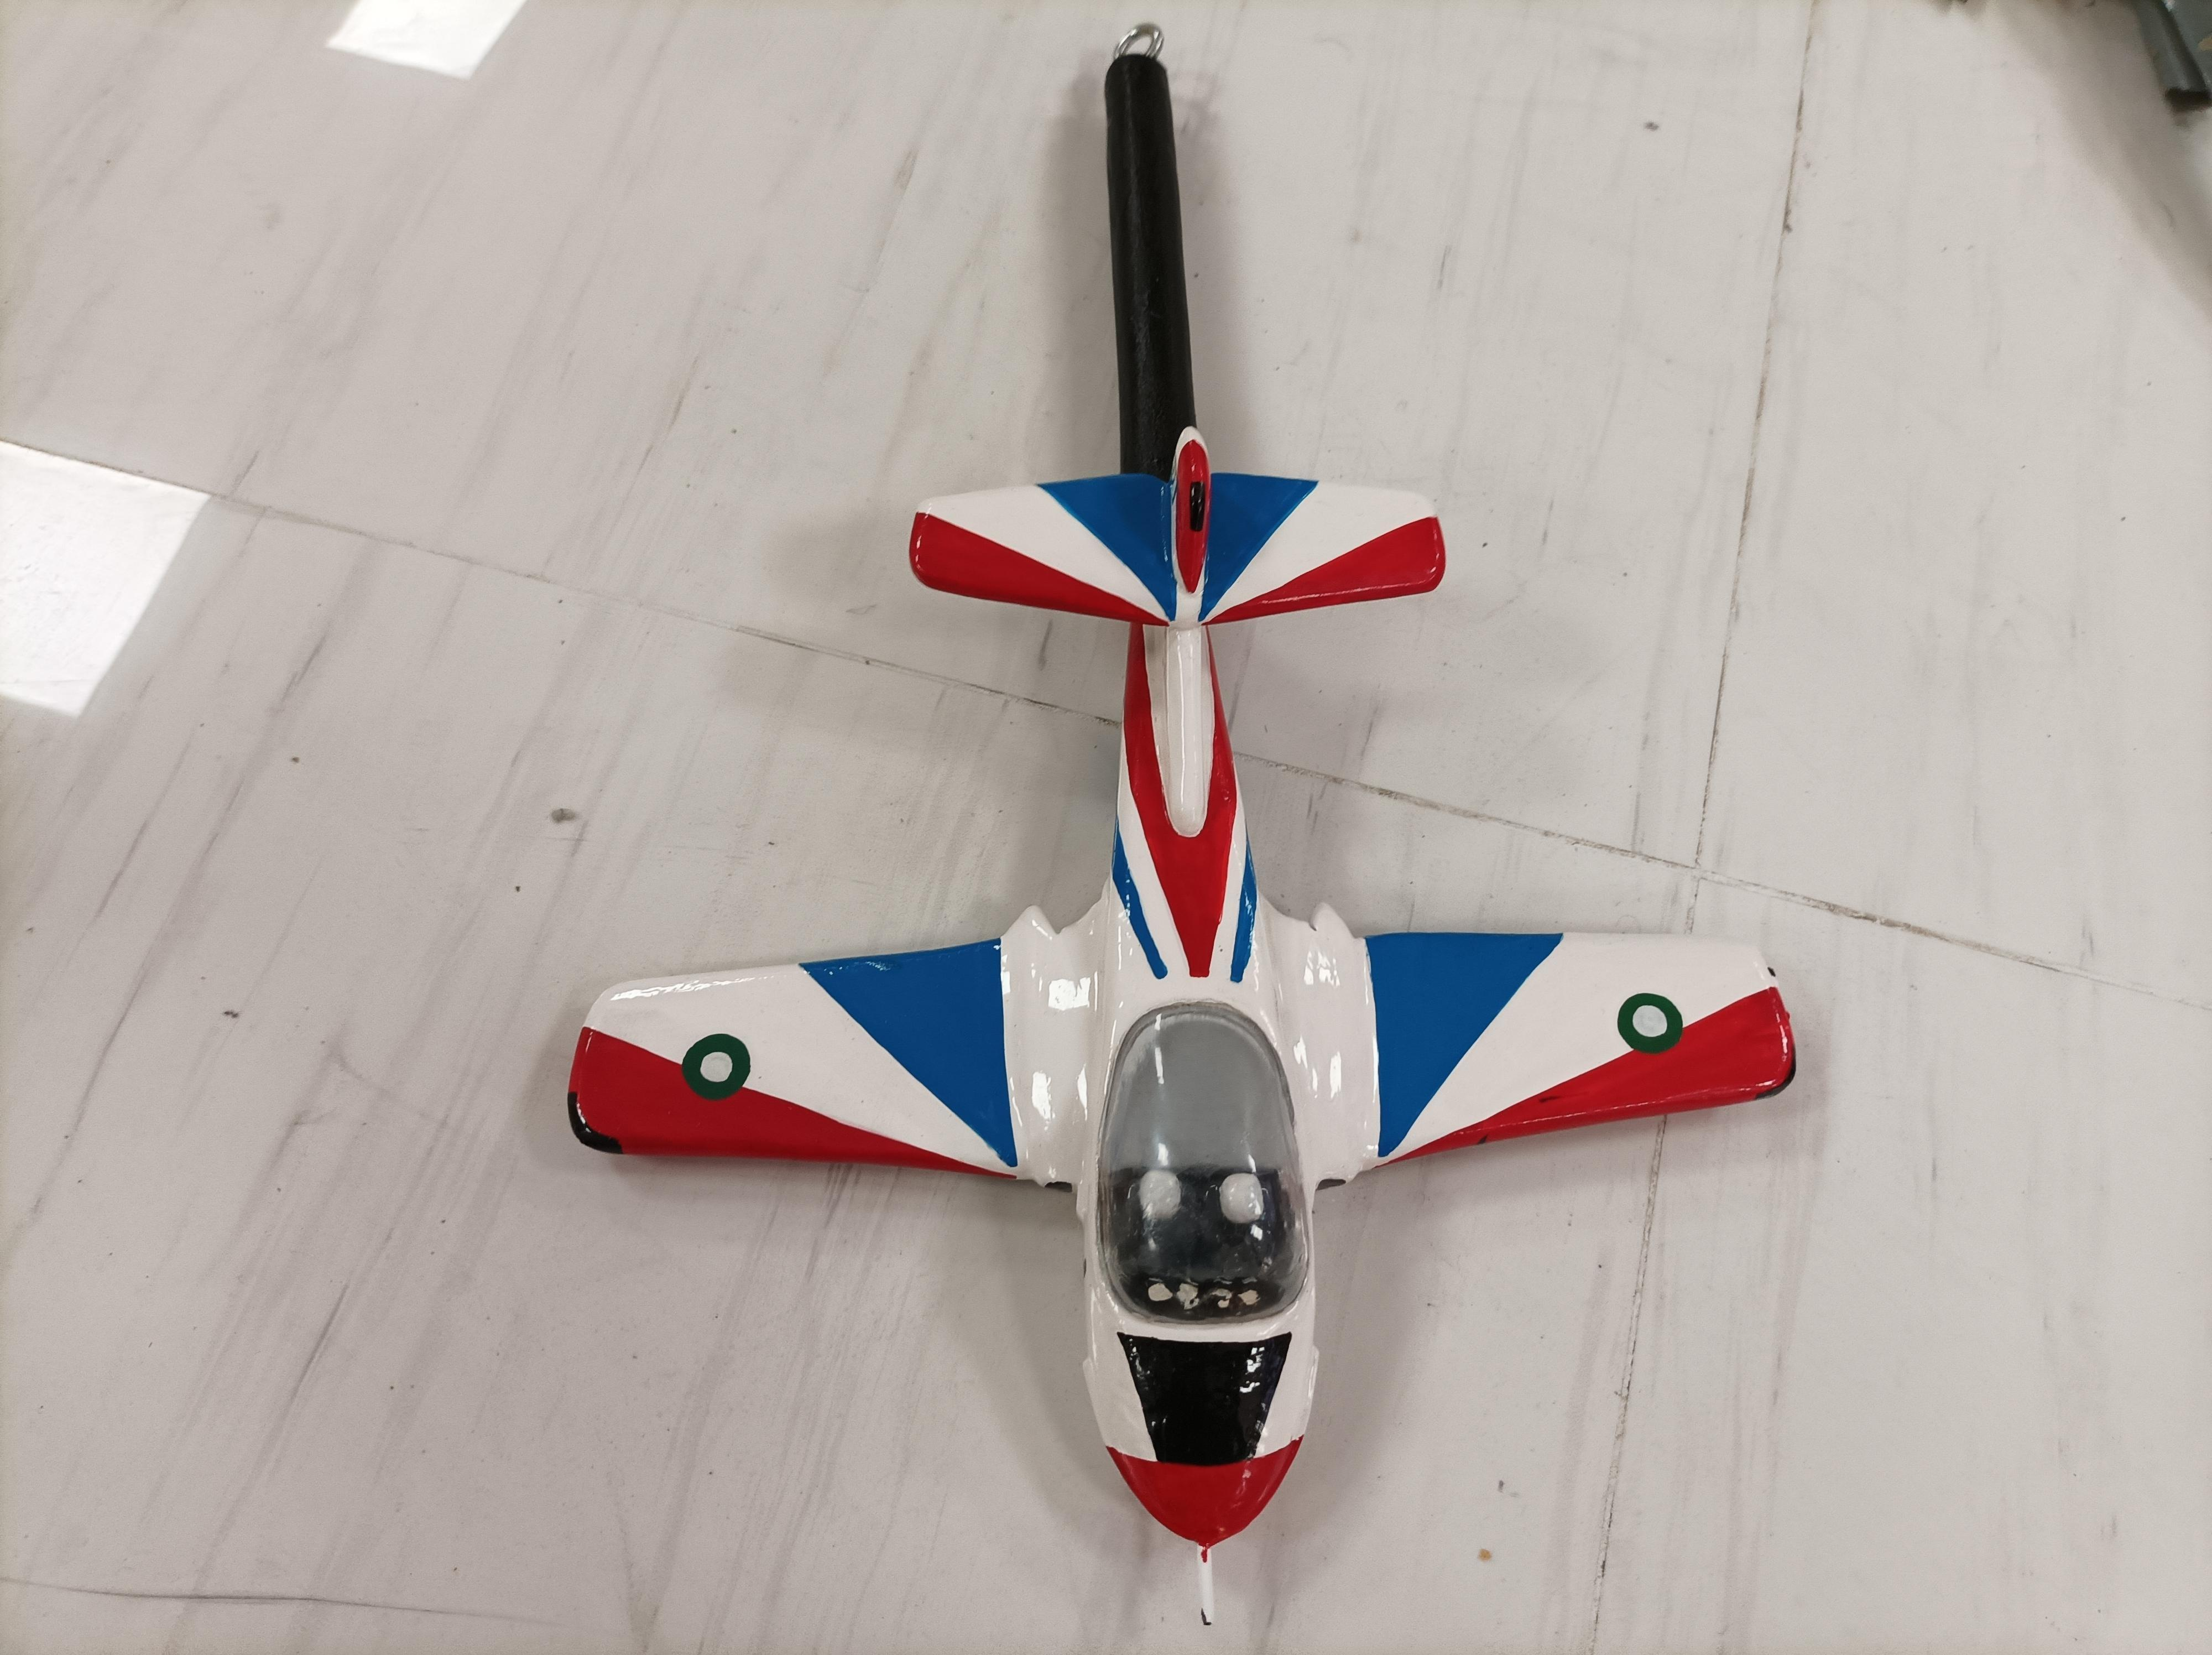Airplane: (525, 421, 1828, 1558)
